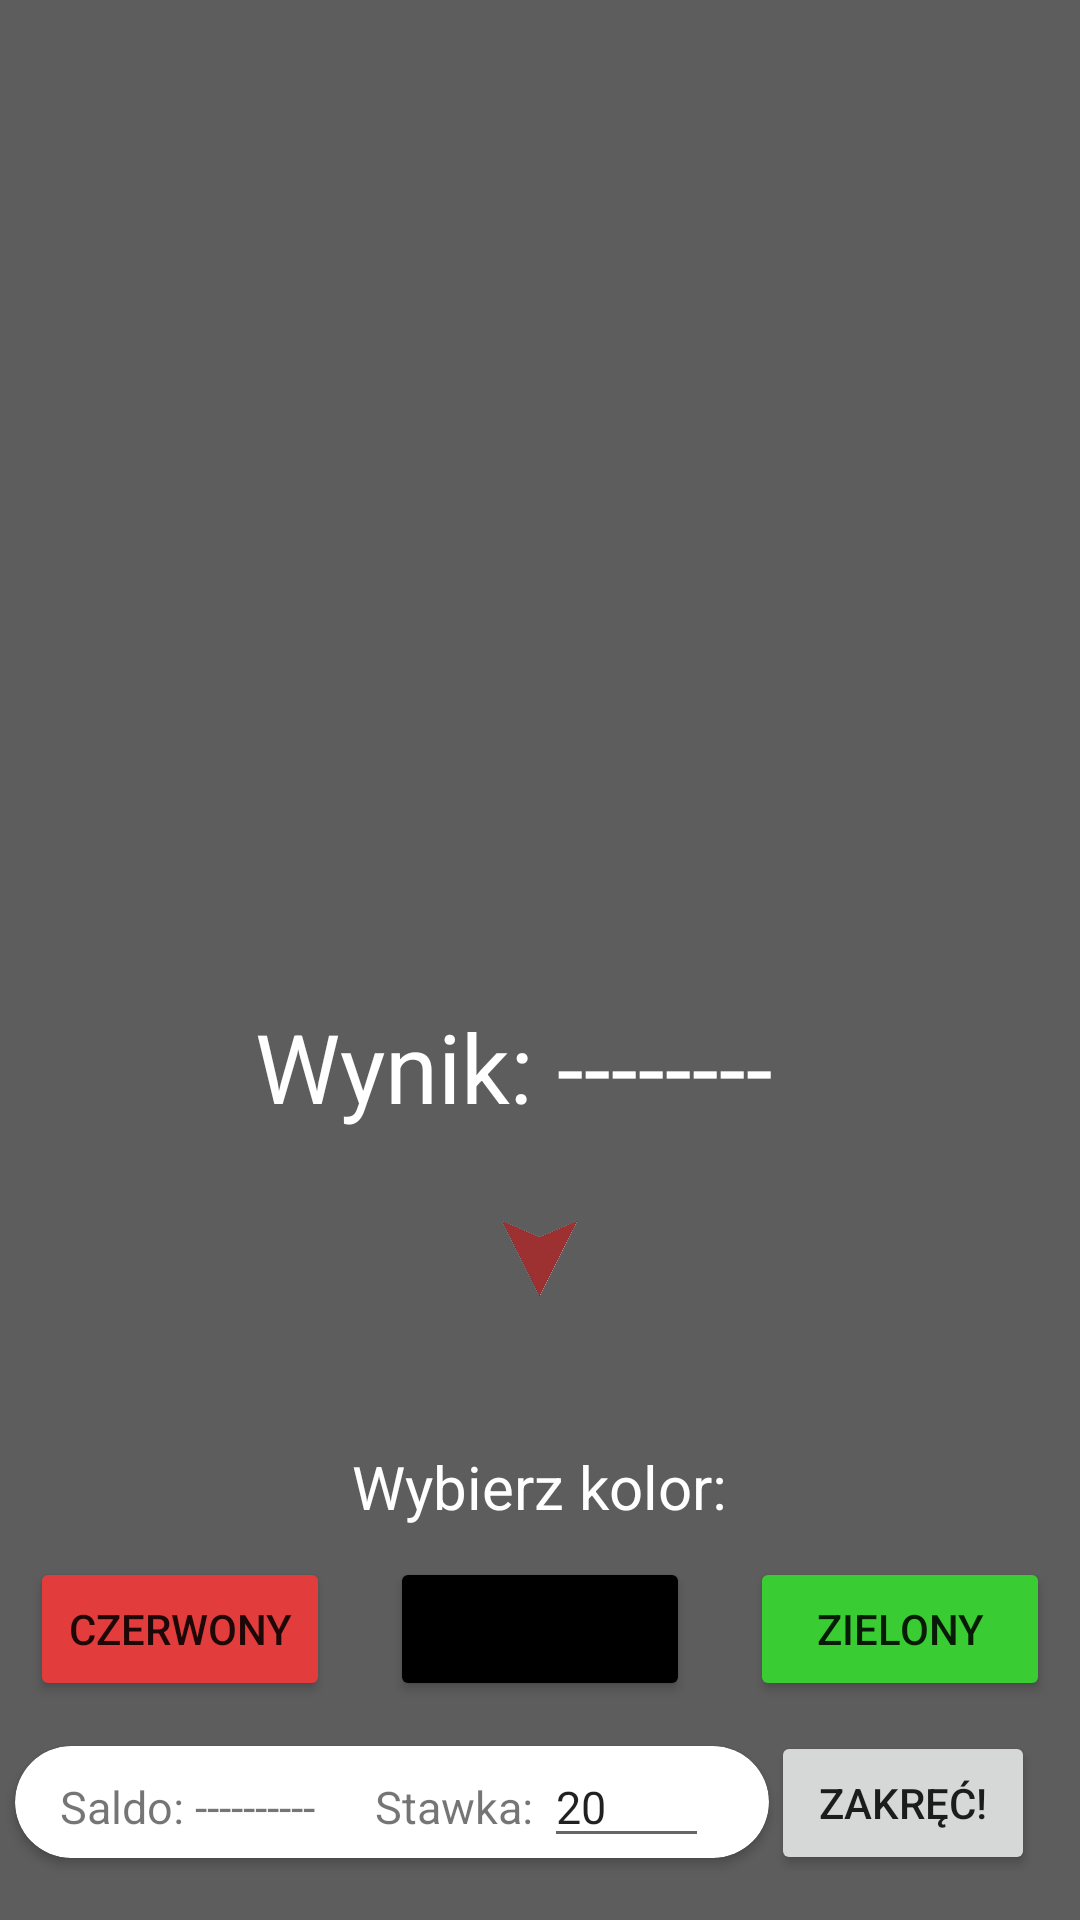

Icons on this 1080x1920 Android screen, each with the point to tap as (x,y):
roulette pointer: (540,1258)
